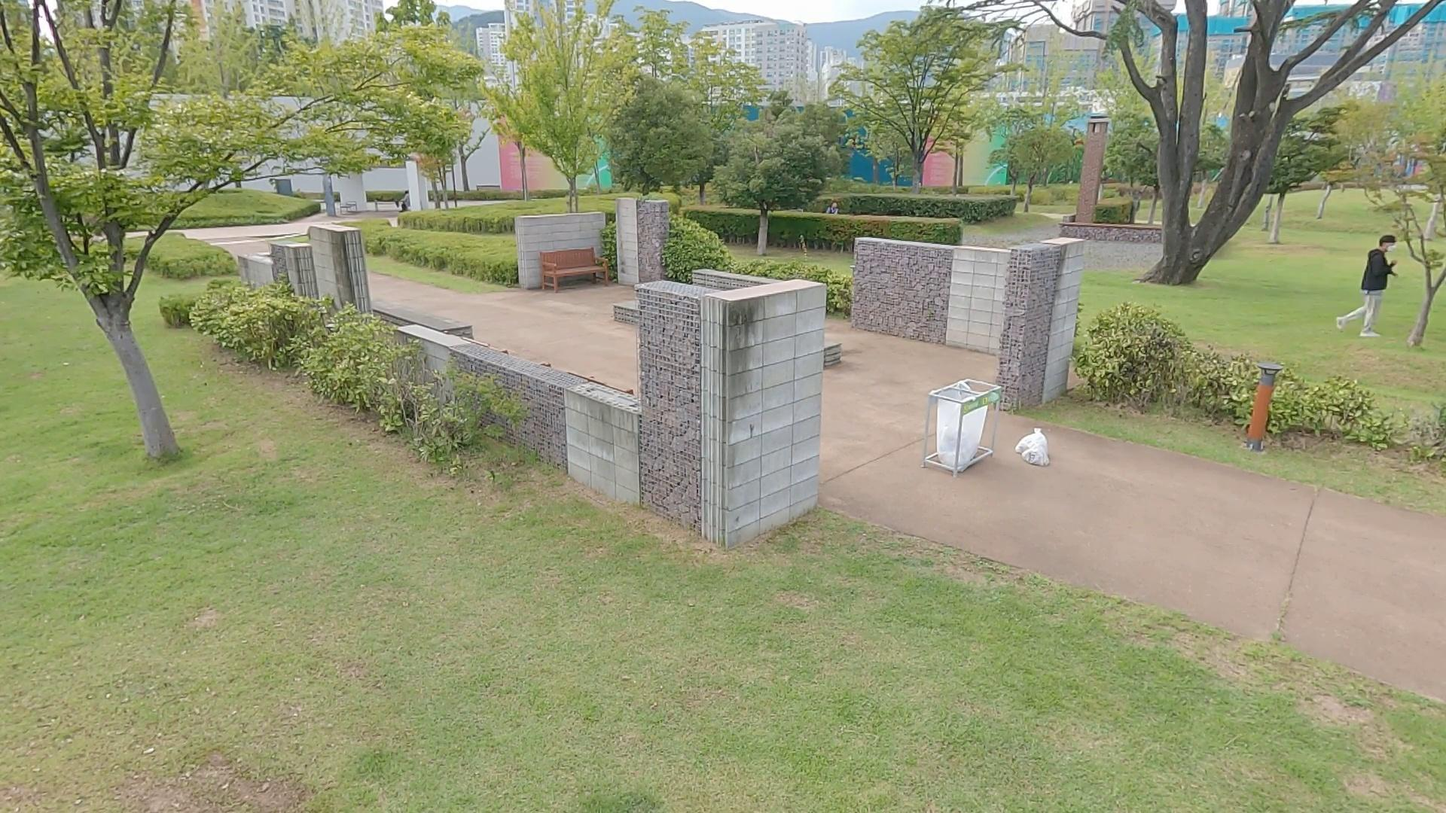person: (1338, 235, 1400, 337)
trash: (1016, 427, 1049, 458), (1021, 440, 1051, 467)
